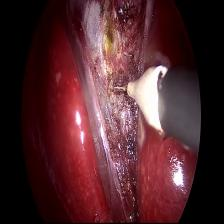Hook: (113, 63, 168, 139)
